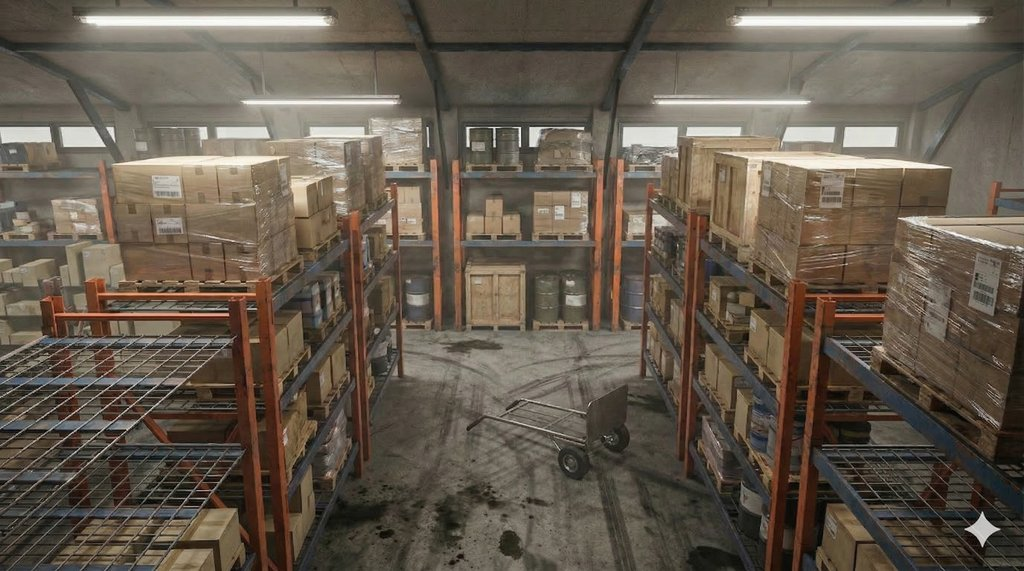empty_shelf: (6, 329, 252, 564), (789, 429, 1024, 569)
obstacle: (324, 357, 709, 555)
pallet: (864, 341, 1005, 457), (103, 271, 261, 308), (737, 348, 789, 404), (746, 258, 787, 305), (531, 157, 597, 185), (534, 314, 592, 343), (452, 227, 521, 251), (463, 159, 528, 184), (461, 318, 540, 336), (385, 159, 447, 181), (531, 228, 600, 247), (47, 230, 104, 246)
